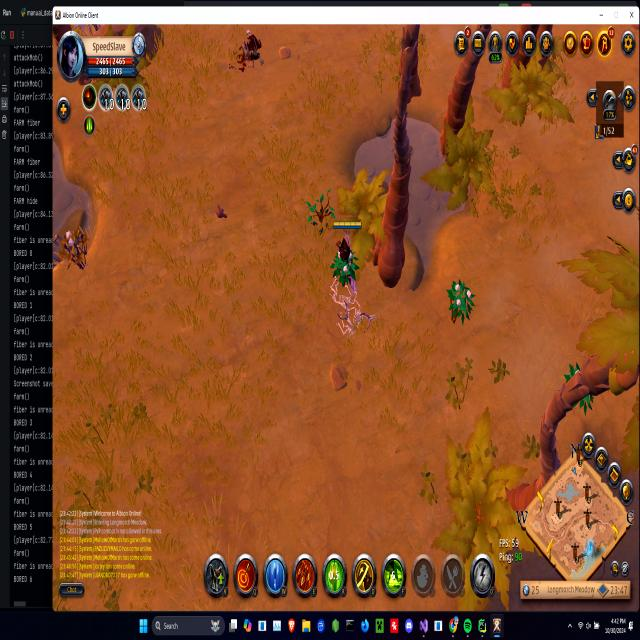hide: (61, 225, 90, 277), (448, 275, 473, 322), (332, 248, 357, 289)
ore: (240, 27, 266, 72)
red: (332, 216, 360, 279)
